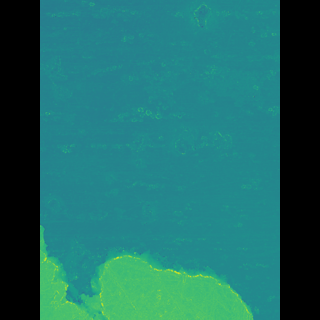Loch: (71, 243, 235, 320)
